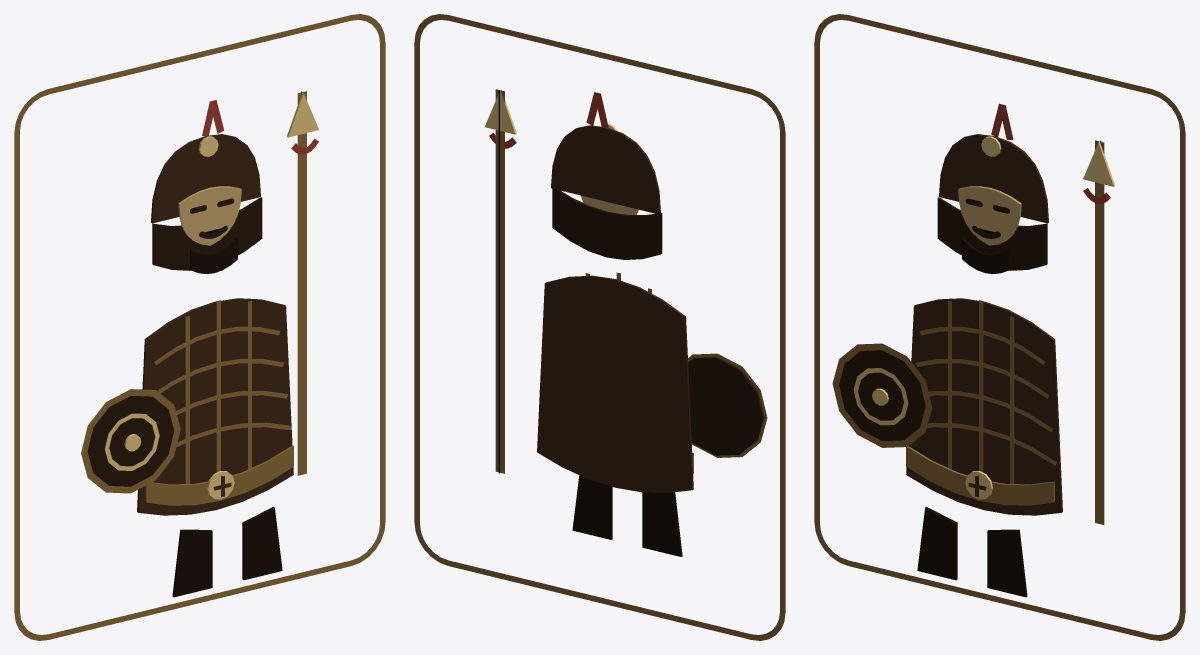
Rendered from npc-strazhnik.glb.
The picture shows the model from 3 angles, left to right: view 1: azimuth 30°, elevation 25°; view 2: azimuth 150°, elevation 25°; view 3: azimuth 330°, elevation 25°; orthographic projection.
Parts seen in each view (by area): view 1: npc-strazhnik; view 2: npc-strazhnik; view 3: npc-strazhnik.
Part boxes in pixels (x1,y1,x2,y2): npc-strazhnik: [14, 14, 385, 640]; npc-strazhnik: [414, 14, 785, 640]; npc-strazhnik: [814, 14, 1185, 640].
Size of the model in its own units: 1.19 by 1.69 by 0.1575.
